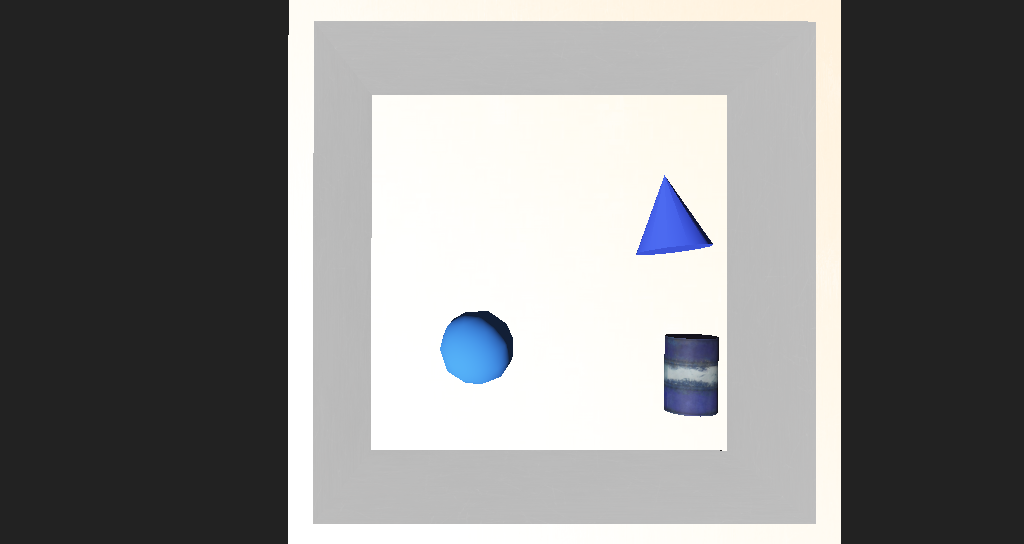cone: (600, 305, 653, 353)
cylinder: (566, 200, 647, 258)
sphere: (414, 293, 475, 336)
